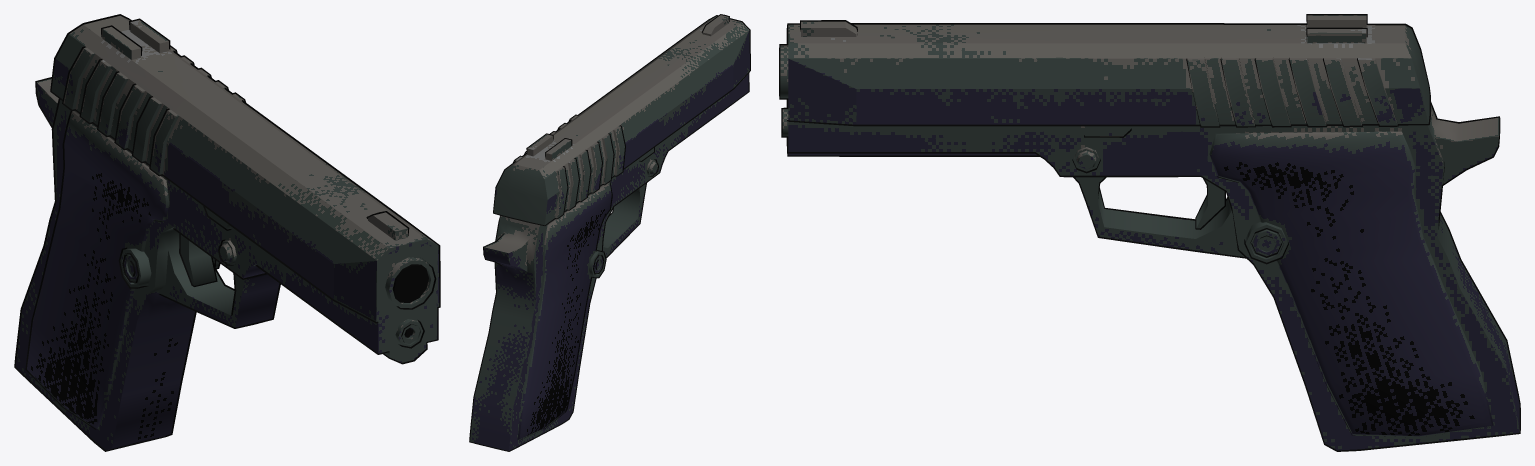
File: stylized_pistol.glb
3 renders of one model, left to right at view 1: azimuth 30°, elevation 25°; view 2: azimuth 150°, elevation 25°; view 3: azimuth 270°, elevation 25°, orthographic. The views are drawn at different scales.
Visible parts, largest first — view 1: Object_2; view 2: Object_2; view 3: Object_2.
Part boxes in pixels (<box>): Object_2: <box>14,14,440,451</box>; Object_2: <box>469,14,750,451</box>; Object_2: <box>779,14,1520,451</box>.
Bounding box in the file's own units: 0.4875 × 2.15 × 3.49.
1 material, 1 textured.
